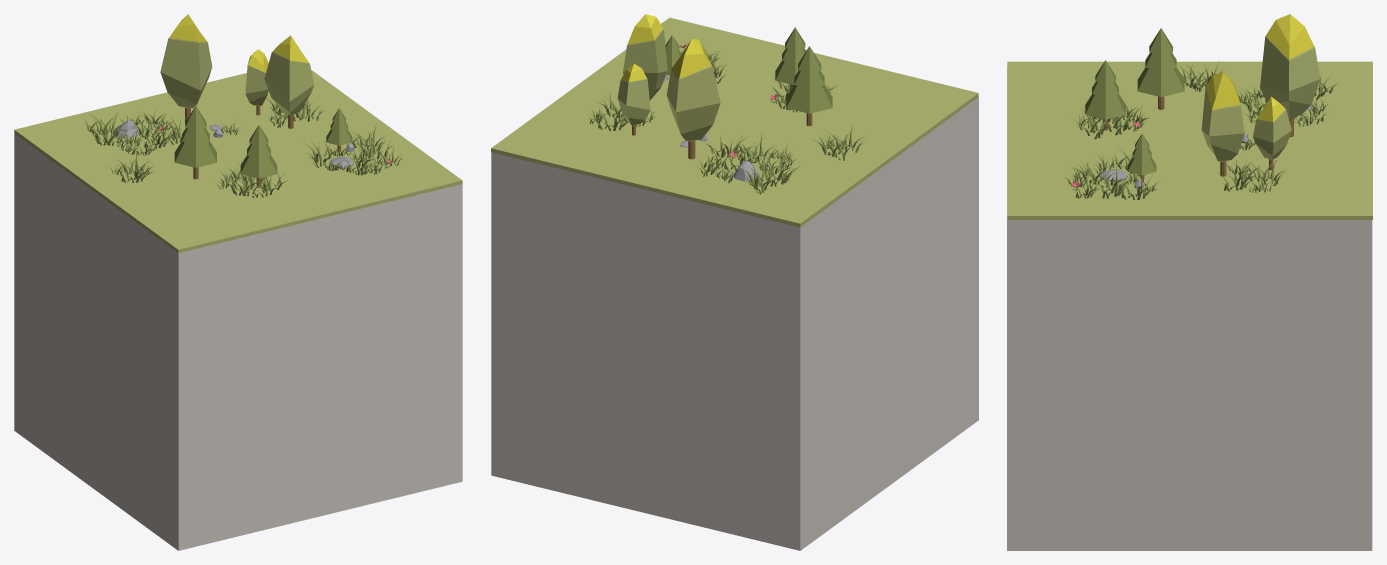
Rendered from GrassLand5.fbx.
3 views of the same model, side by side, from view 1: azimuth 30°, elevation 25°; view 2: azimuth 150°, elevation 25°; view 3: azimuth 270°, elevation 25° (orthographic). The views are drawn at different scales.
Visible parts, largest first — view 1: gras_5; view 2: gras_5; view 3: gras_5.
Boxes of the visible parts, bbox=[...] form: gras_5: bbox=[14, 14, 462, 550]; gras_5: bbox=[491, 14, 978, 550]; gras_5: bbox=[1007, 14, 1372, 550].
Bounding box in the file's own units: 12 × 16.56 × 12.02.
